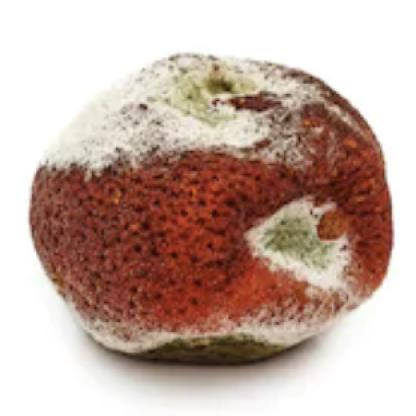rotten: (35, 51, 394, 367)
